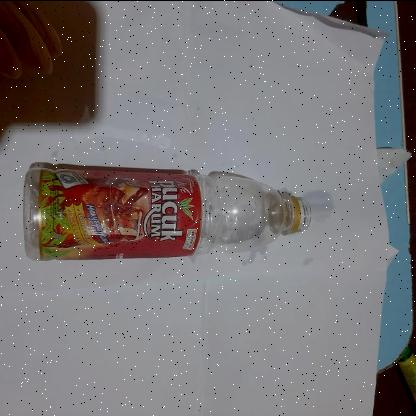Plastic Bottle: (12, 155, 328, 280)
